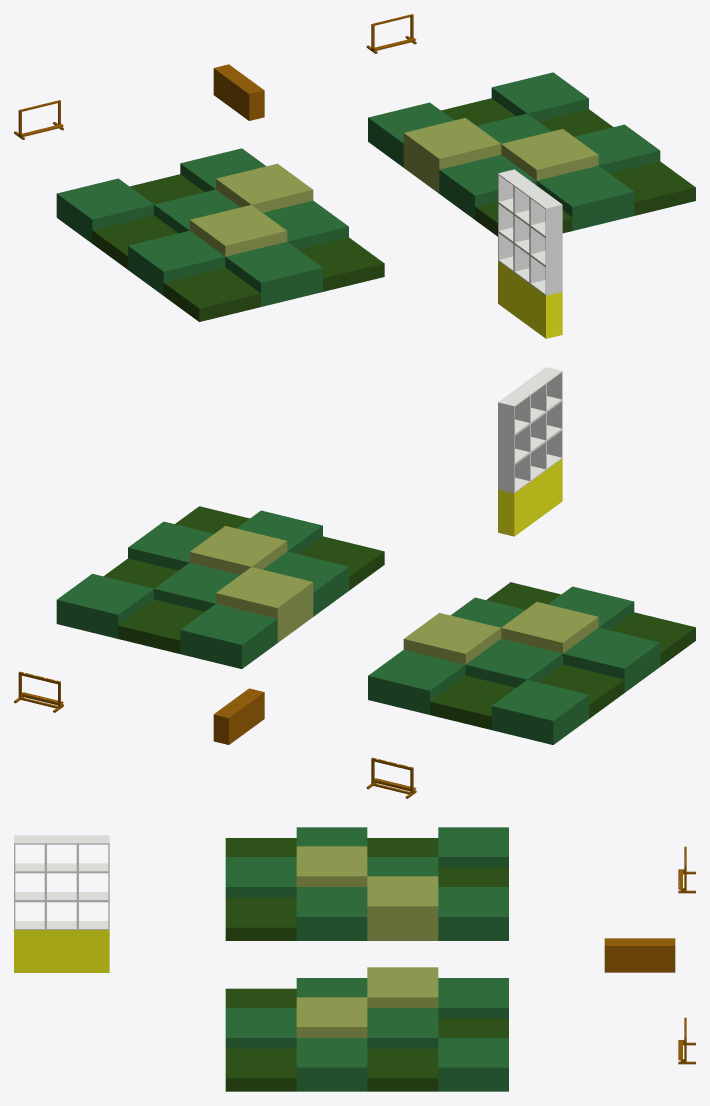
File: obstacles.obj
The picture shows the model from 3 angles, top to bottom: view 1: azimuth 30°, elevation 25°; view 2: azimuth 150°, elevation 25°; view 3: azimuth 270°, elevation 25°; orthographic projection.
Parts seen in each view (by area): view 1: 400H MF R, 400 MF B, 600H MF B, Tic-Tac-Toe Rack, 600H MF R, 200H MF R 3, 200H MF R 1,2, Tic-Tac-Toe Base, 200H MF B 3, 200H MF R 4, 200H MF B 1,2, Spearhead Rack (+3 smaller); view 2: 400H MF R, 400 MF B, 600H MF B, 600H MF R, Tic-Tac-Toe Rack, 200H MF R 1,2, 200H MF B 1,2, Tic-Tac-Toe Base, 200H MF R 3, 200H MF B 4, Spearhead Rack, 200H MF R 4 (+3 smaller); view 3: 400 MF B, 400H MF R, 600H MF R, 600H MF B, 200H MF B 1,2, Tic-Tac-Toe Rack, Tic-Tac-Toe Base, 200H MF R 4, 200H MF B 3, 200H MF R 1,2, Spearhead Rack, 200H MF B 4 (+1 smaller).
Boxes of the visible parts, x1,y1,x2,y2 form: 400H MF R: [56, 148, 348, 306]; 400 MF B: [368, 72, 660, 230]; 600H MF B: [403, 118, 598, 193]; Tic-Tac-Toe Rack: [498, 169, 562, 295]; 600H MF R: [189, 163, 313, 256]; 200H MF R 3: [163, 267, 260, 321]; 200H MF R 1,2: [92, 174, 204, 269]; Tic-Tac-Toe Base: [498, 261, 562, 338]; 200H MF B 3: [610, 161, 695, 215]; 200H MF R 4: [298, 237, 384, 291]; 200H MF B 1,2: [441, 98, 613, 136]; Spearhead Rack: [213, 64, 264, 120]; 400H MF R: [368, 586, 660, 744]; 400 MF B: [56, 510, 348, 668]; 600H MF B: [189, 526, 313, 642]; 600H MF R: [403, 602, 598, 664]; Tic-Tac-Toe Rack: [498, 367, 562, 493]; 200H MF R 1,2: [430, 664, 624, 729]; 200H MF B 1,2: [104, 558, 204, 653]; Tic-Tac-Toe Base: [498, 458, 562, 536]; 200H MF R 3: [610, 612, 695, 666]; 200H MF B 4: [298, 536, 384, 590]; Spearhead Rack: [213, 688, 264, 744]; 200H MF R 4: [486, 582, 560, 609]; 400 MF B: [225, 978, 508, 1091]; 400H MF R: [225, 827, 508, 940]; 600H MF R: [296, 846, 438, 940]; 600H MF B: [296, 967, 438, 1037]; 200H MF B 1,2: [367, 1018, 508, 1091]; Tic-Tac-Toe Rack: [14, 835, 109, 929]; Tic-Tac-Toe Base: [14, 930, 109, 972]; 200H MF R 4: [225, 897, 296, 940]; 200H MF B 3: [225, 1048, 296, 1091]; 200H MF R 1,2: [367, 838, 508, 886]; Spearhead Rack: [604, 938, 675, 972]; 200H MF B 4: [225, 988, 296, 1007].
Bounding box in the file's own units: 9.65 × 2.47 × 11.56.
